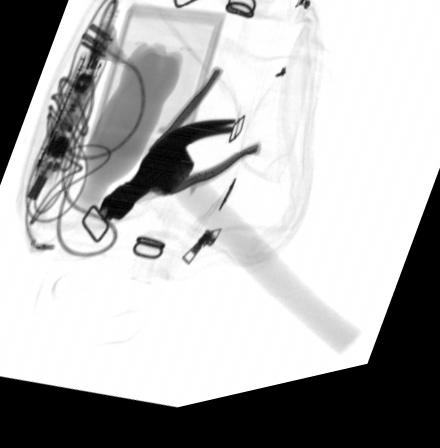Hammer: (105, 127, 362, 373)
Pliers: (98, 75, 262, 225)
